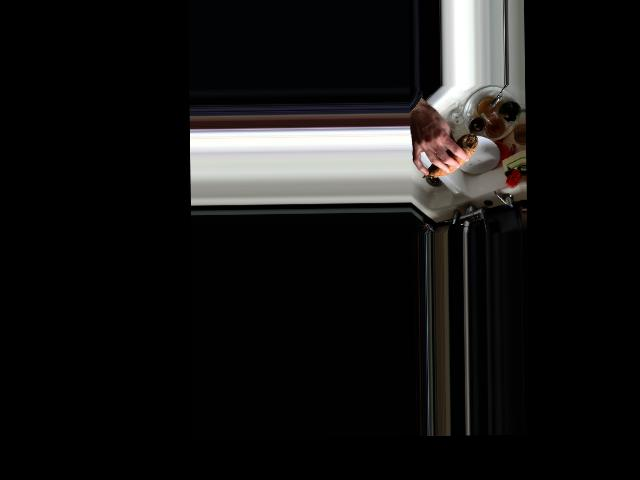sweet_potato: (421, 134, 476, 178)
